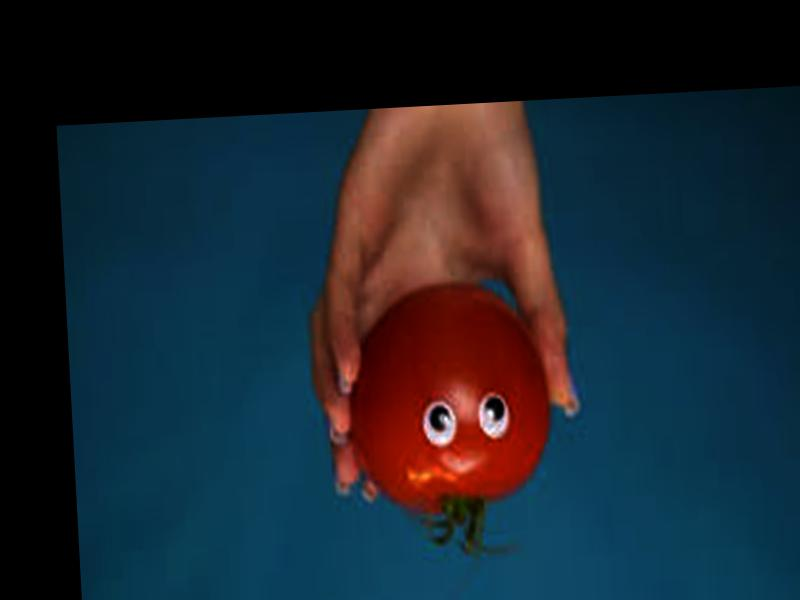Tomato: (341, 277, 557, 520)
